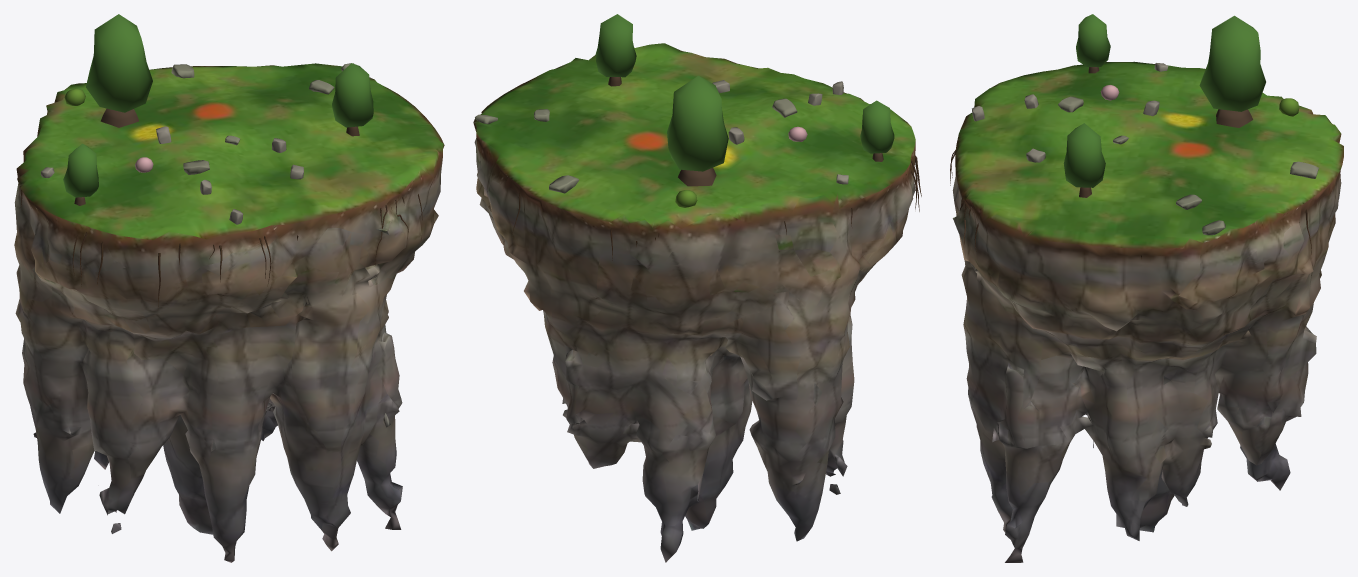
File: island-cliff-lod1.glb
The picture shows the model from 3 angles, left to right: view 1: azimuth 30°, elevation 25°; view 2: azimuth 150°, elevation 25°; view 3: azimuth 270°, elevation 25°; orthographic projection.
Parts seen in each view (by area): view 1: Terrain, Detail; view 2: Terrain, Detail; view 3: Terrain, Detail.
Part boxes in pixels (left/top/right/bottom): Terrain: left=14, top=63, right=444, bottom=562; Detail: left=20, top=14, right=422, bottom=307; Terrain: left=473, top=43, right=915, bottom=562; Detail: left=475, top=14, right=921, bottom=260; Terrain: left=952, top=61, right=1343, bottom=562; Detail: left=950, top=14, right=1340, bottom=259.
Bounding box in the file's own units: 51.31 × 63.2 × 45.67.
2 materials, 1 textured.
